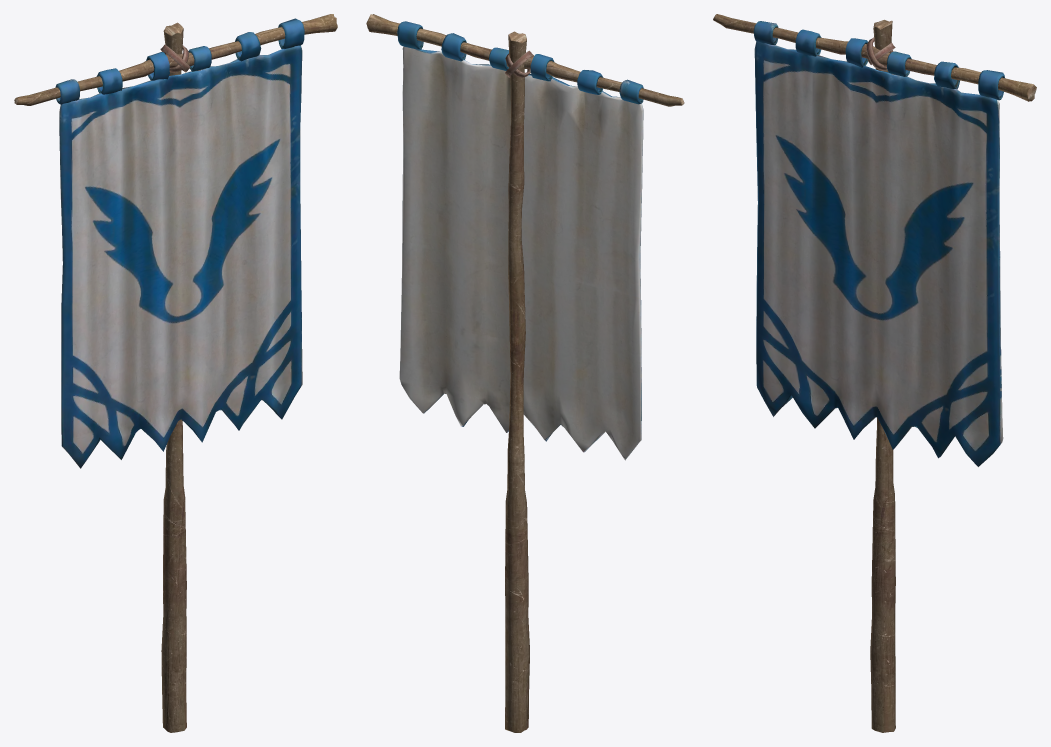
3 renders of one model, left to right at view 1: azimuth 30°, elevation 25°; view 2: azimuth 150°, elevation 25°; view 3: azimuth 330°, elevation 25°, orthographic.
Parts seen in each view (by area): view 1: SM_Double_Banner_Armadyl_02v2_LOD0; view 2: SM_Double_Banner_Armadyl_02v2_LOD0; view 3: SM_Double_Banner_Armadyl_02v2_LOD0.
Part boxes in pixels (bbox=[...]): SM_Double_Banner_Armadyl_02v2_LOD0: bbox=[14, 14, 337, 732]; SM_Double_Banner_Armadyl_02v2_LOD0: bbox=[366, 14, 684, 732]; SM_Double_Banner_Armadyl_02v2_LOD0: bbox=[713, 14, 1036, 732].
Bounding box in the file's own units: 2.08 × 4.39 × 0.1861.
Materials: 3 (3 with a texture image).
